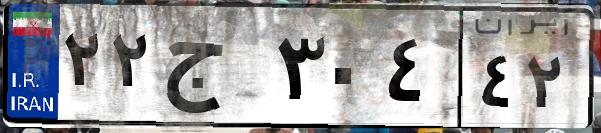0: (330, 28, 385, 110)
2: (57, 26, 110, 100), (525, 38, 570, 115), (110, 28, 158, 98)
3: (270, 28, 330, 110)
4: (385, 28, 445, 110), (475, 38, 525, 113)
ج: (158, 20, 270, 120)
